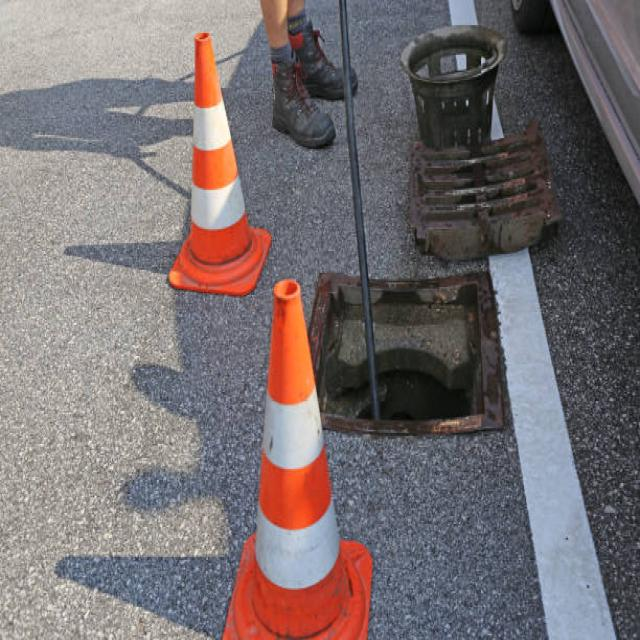Traffic Cone: (215, 265, 381, 640), (143, 19, 285, 312)
